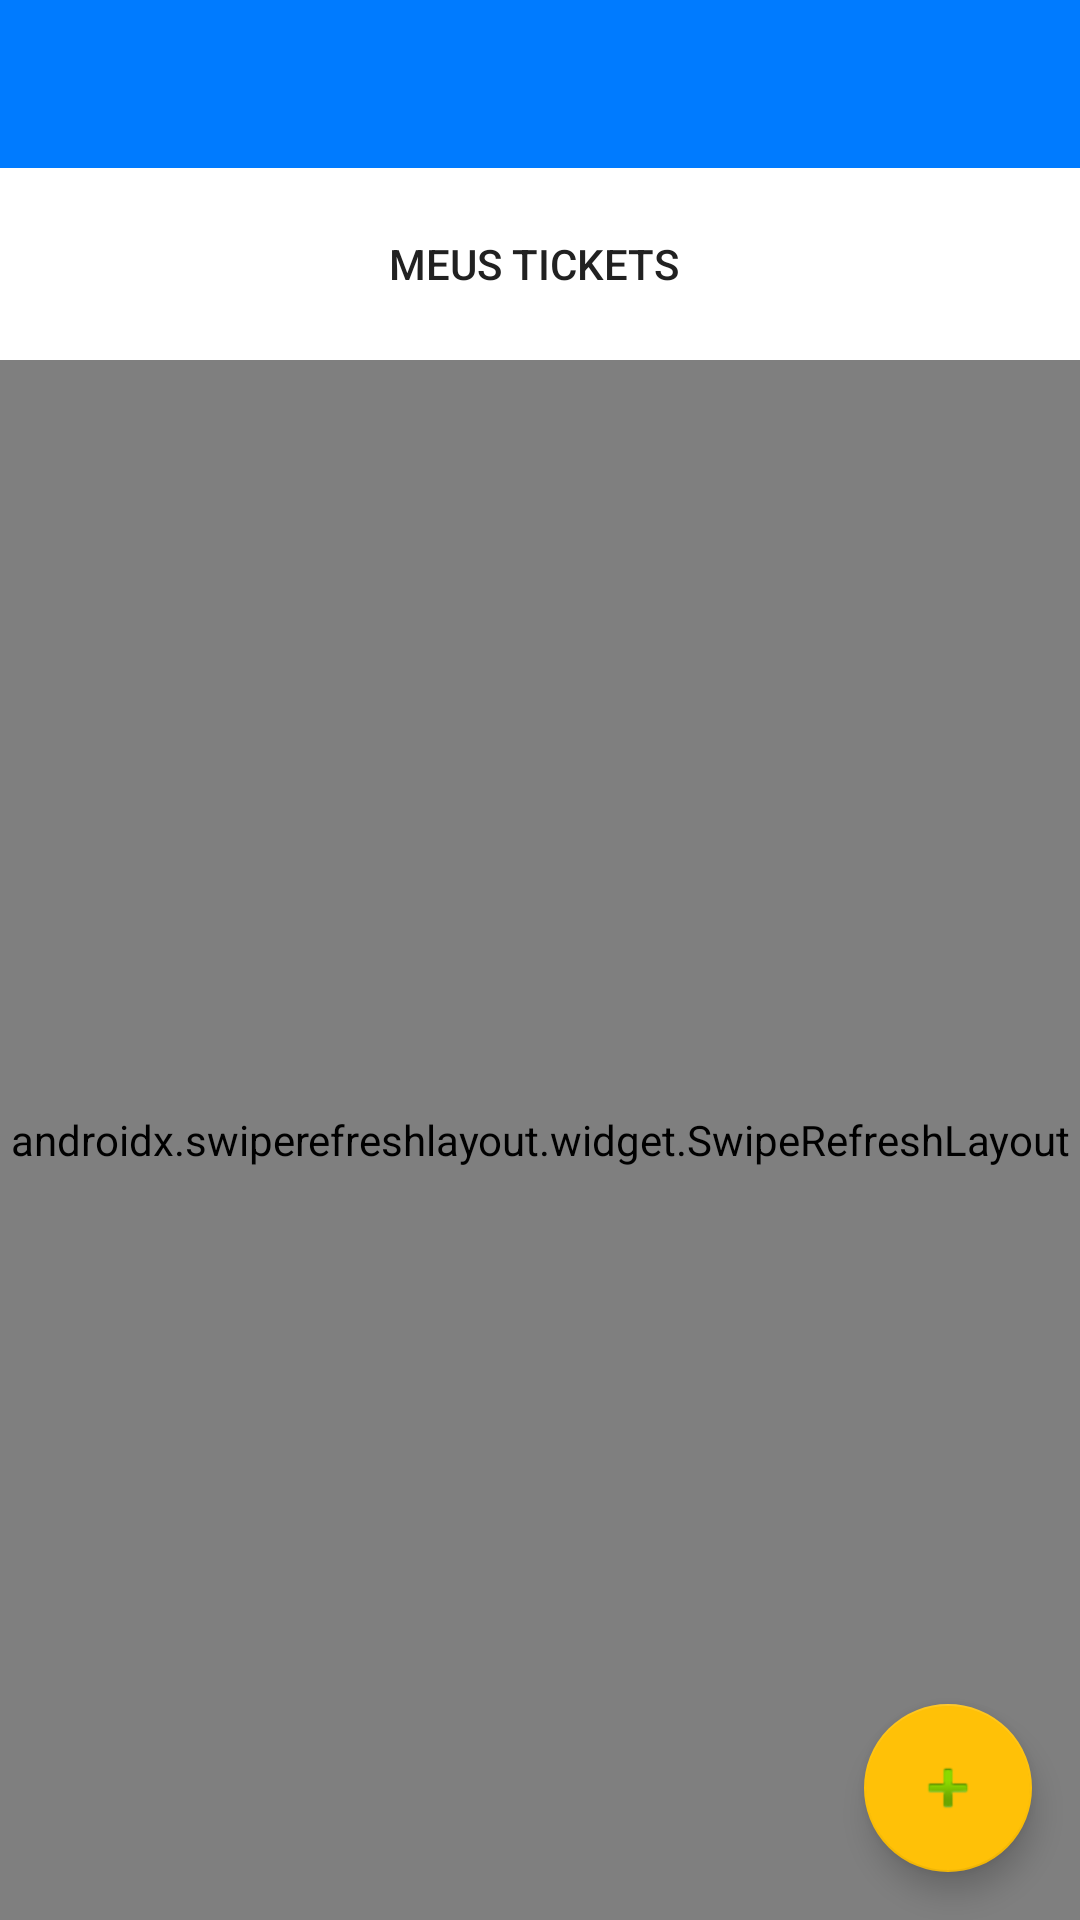

Screen size 1080x1920. Icon name, then its box in pixels as {"x1": x1, "y1": y1, "x2": x2, "y2": y2}:
Novo Ticket: {"x1": 864, "y1": 1704, "x2": 1032, "y2": 1872}
